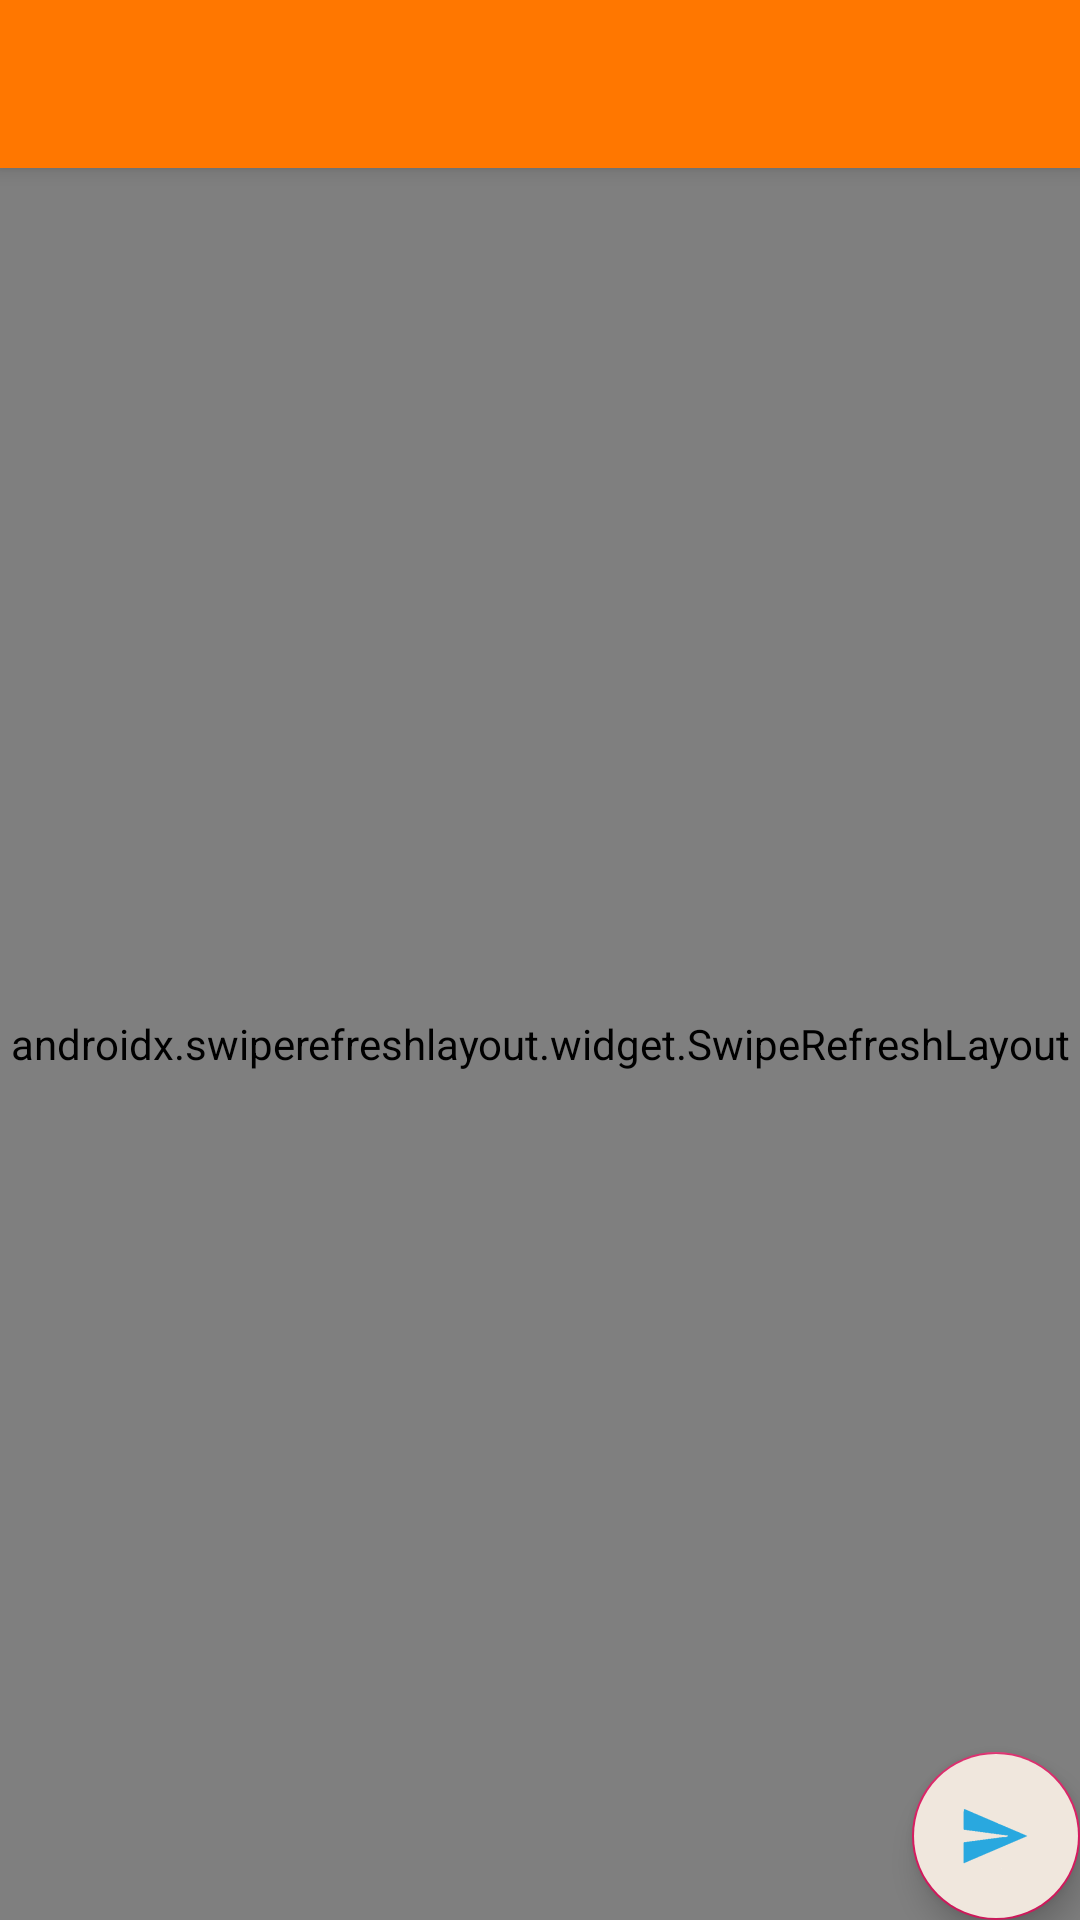

Screen size 1080x1920. Icon name, then its box in pixels as (x1, y1, x2, y2):
sendicon: (912, 1752, 1080, 1920)
